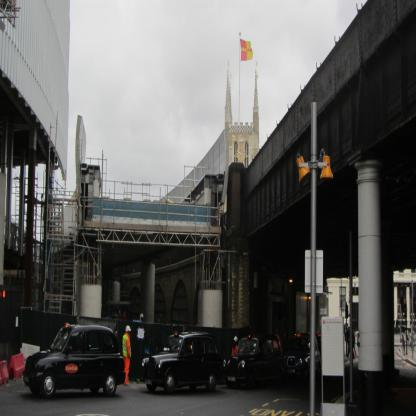Car: (23, 315, 123, 396), (140, 329, 224, 393), (222, 334, 284, 390), (282, 332, 321, 384)
